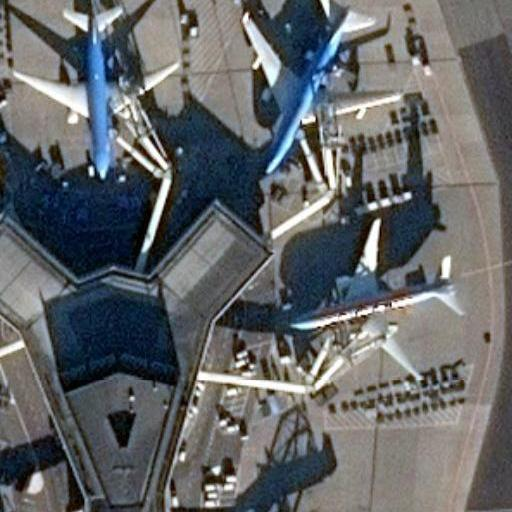Aircraft: (10, 0, 180, 178), (283, 217, 467, 378), (237, 0, 403, 177)
